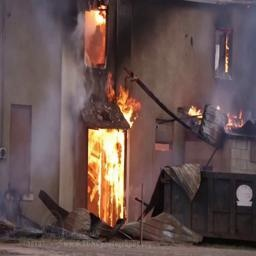fire: (87, 128, 128, 217), (91, 66, 137, 121), (81, 10, 108, 64)
